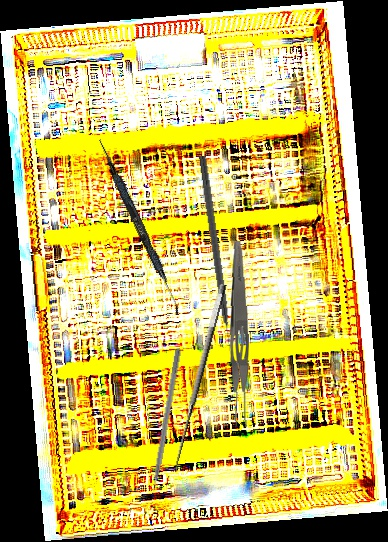Dressing Forceps: (224, 241, 252, 428)
Hook Surgical: (168, 283, 242, 473), (197, 155, 235, 355)
Pusher: (146, 347, 182, 507)
Spatula Surgical: (92, 138, 187, 315)
